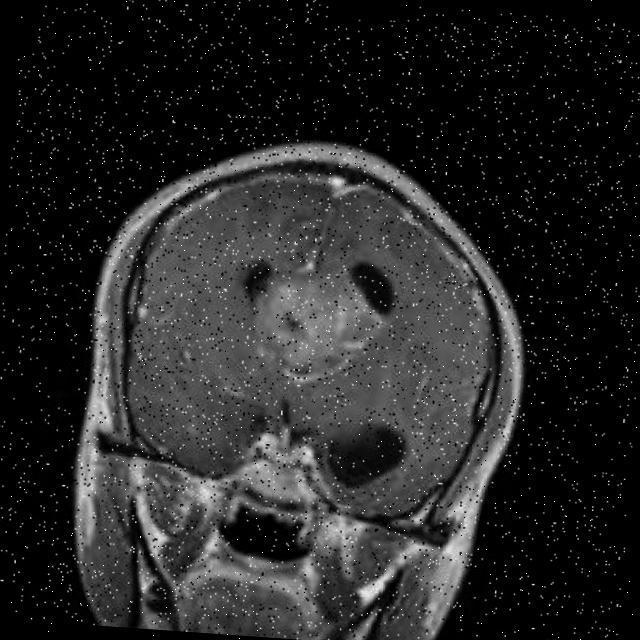LMCI: (266, 364, 466, 504), (220, 198, 288, 281)
